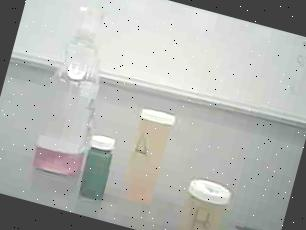Bottle A: (114, 101, 184, 212)
Bottle B: (171, 174, 237, 230)
Bottle C: (72, 130, 122, 202)
hazard: (24, 0, 127, 183)
